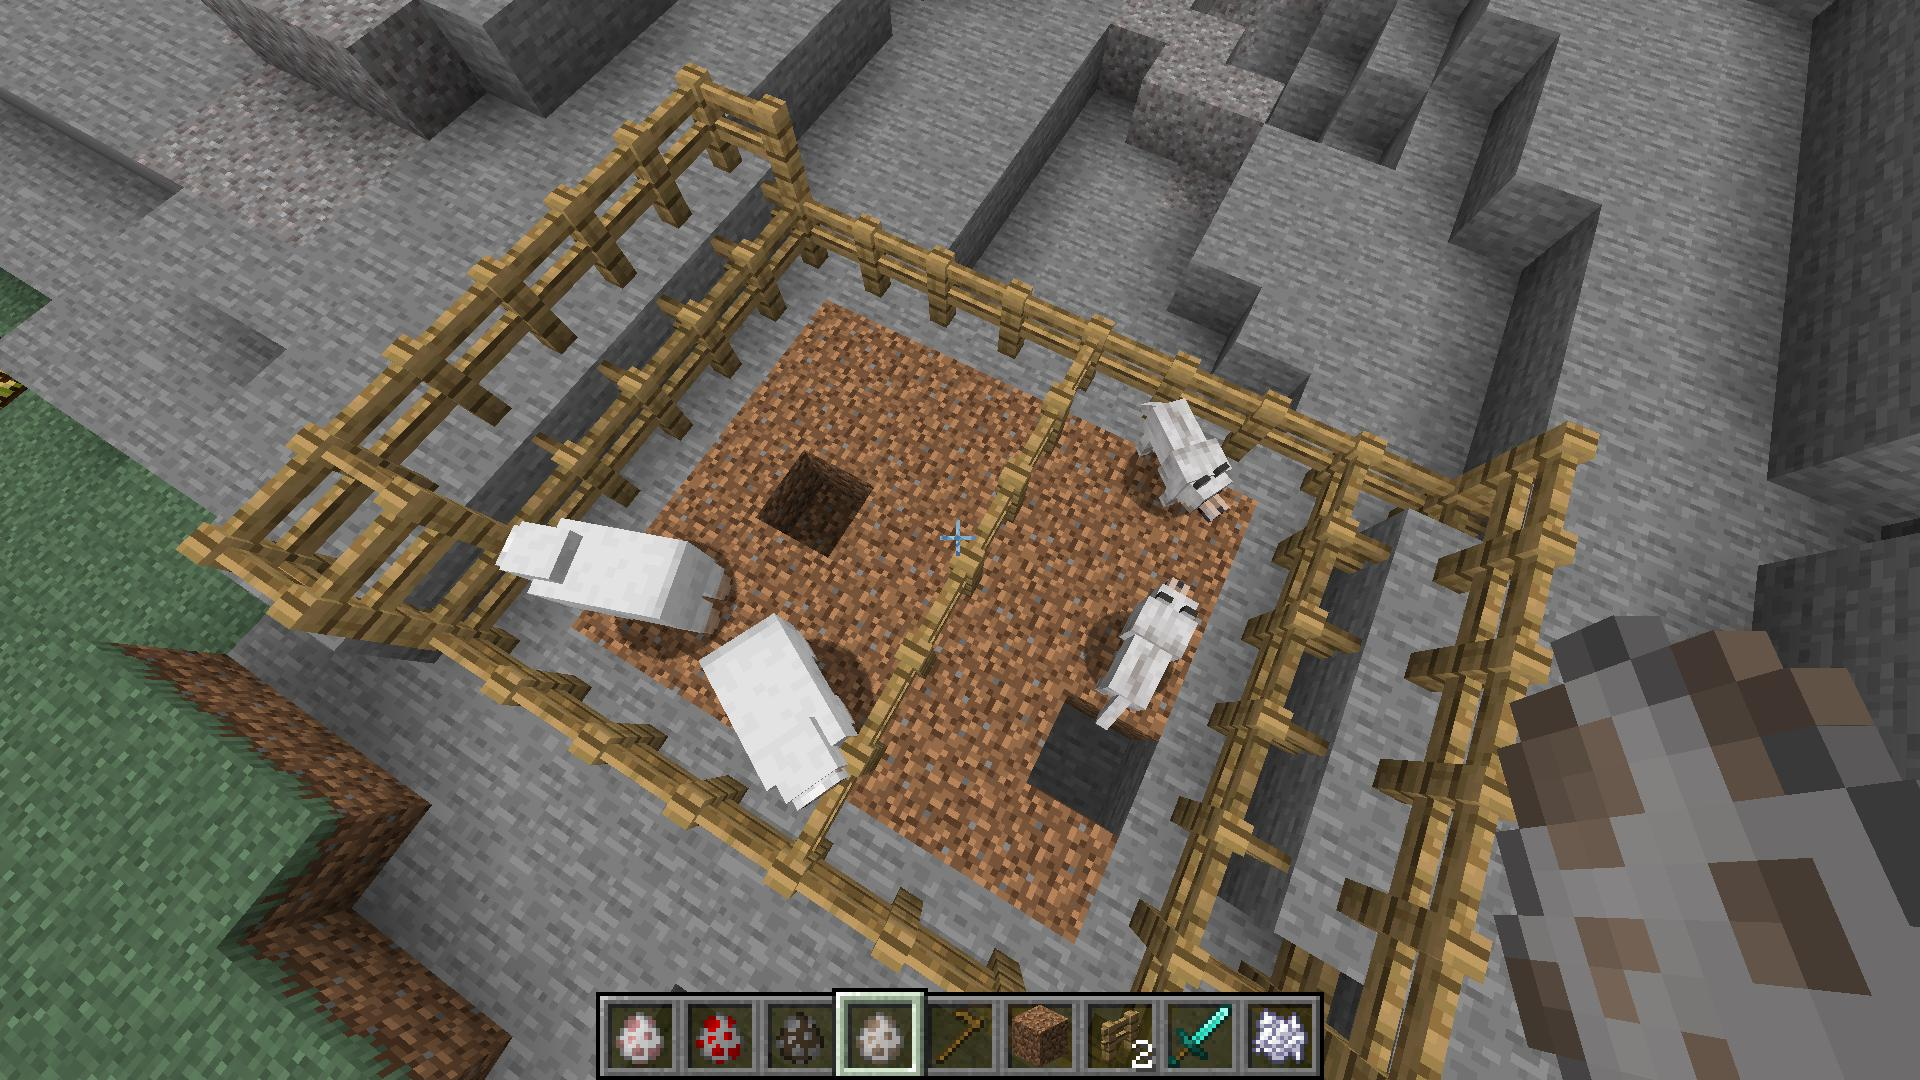sheep: (492, 509, 732, 641), (700, 612, 853, 807)
wolf: (1095, 571, 1203, 736), (1129, 390, 1240, 526)
